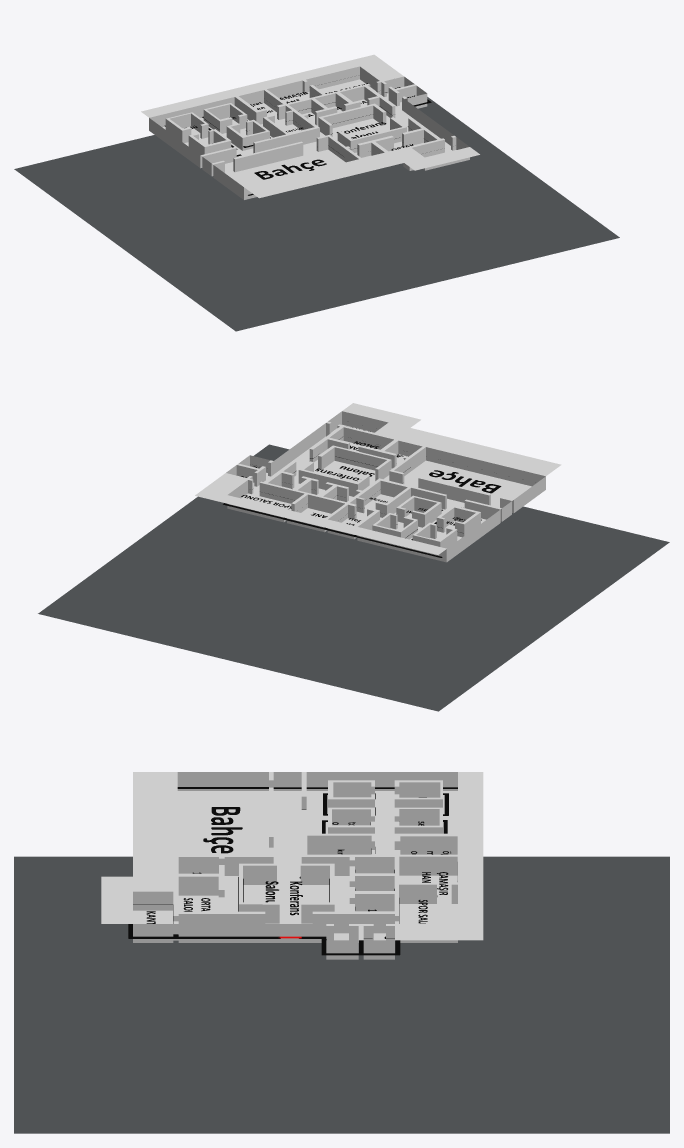
The model's file is Map.fbx.
The picture shows the model from 3 angles, top to bottom: view 1: azimuth 30°, elevation 25°; view 2: azimuth 150°, elevation 25°; view 3: azimuth 270°, elevation 25°; orthographic projection. The views are drawn at different scales.
Visible parts, largest first — view 1: Cube.001, Walls, Top, Floor, sa; view 2: Cube.001, Walls, Top, Floor, sa; view 3: Cube.001, Walls, Top, Floor, sa.
Boxes of the visible parts, box(x1,y1,x2,y2) form: Cube.001: box(14, 97, 619, 331); Walls: box(149, 66, 469, 199); Top: box(141, 54, 479, 198); Floor: box(162, 79, 455, 186); sa: box(164, 83, 431, 195); Cube.001: box(38, 444, 669, 711); Walls: box(226, 411, 545, 562); Top: box(195, 403, 561, 554); Floor: box(241, 424, 531, 540); sa: box(223, 427, 501, 557); Cube.001: box(14, 856, 669, 1133); Walls: box(133, 772, 457, 959); Top: box(101, 772, 483, 940); Floor: box(133, 791, 457, 940); sa: box(128, 787, 457, 955).
Size of the model in its own units: 1538 by 284 by 1293.
